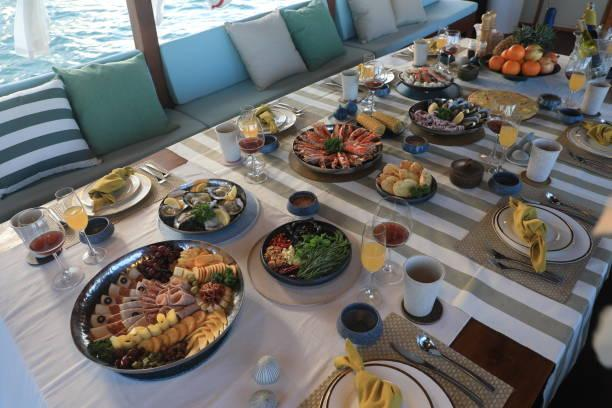Braised Crucian Carp: (65, 240, 248, 381), (259, 218, 349, 285), (159, 177, 247, 234), (291, 122, 381, 175), (408, 97, 486, 136)
